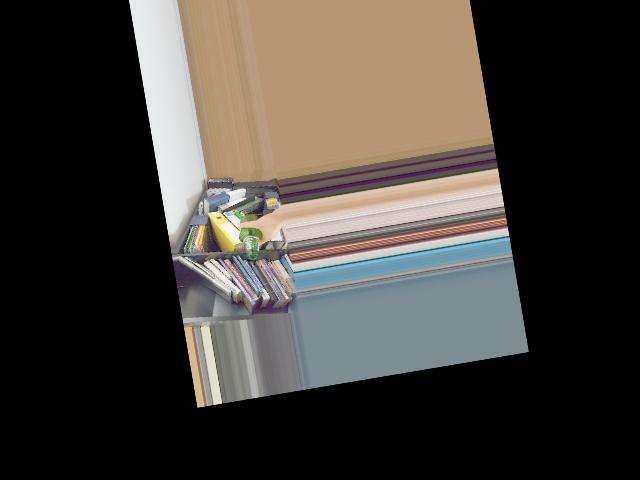beer: (236, 212, 265, 260)
